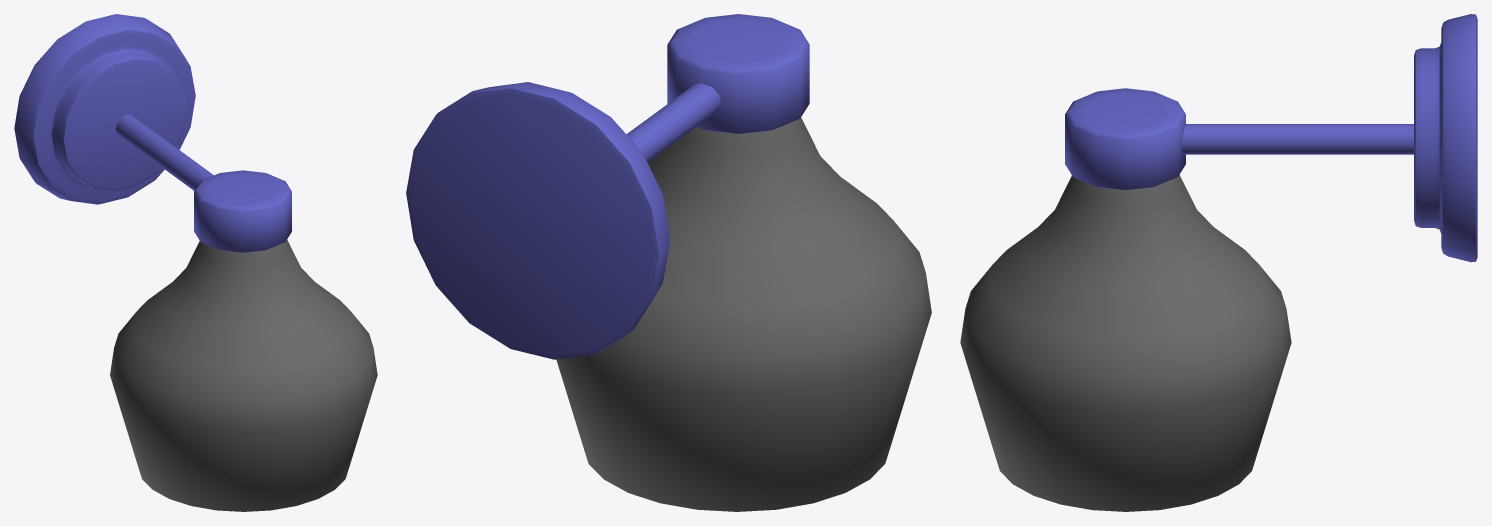
The model's file is SM_lamp_wall_01.fbx.
The picture shows the model from 3 angles, left to right: view 1: azimuth 30°, elevation 25°; view 2: azimuth 150°, elevation 25°; view 3: azimuth 270°, elevation 25°; orthographic projection. The views are drawn at different scales.
Parts seen in each view (by area): view 1: Cylinder041; view 2: Cylinder041; view 3: Cylinder041.
Boxes of the visible parts, left/top/right/bottom form: Cylinder041: left=14, top=14, right=377, bottom=511; Cylinder041: left=406, top=14, right=931, bottom=511; Cylinder041: left=960, top=14, right=1477, bottom=511.
Bounding box in the file's own units: 17.74 × 26.49 × 27.7.
